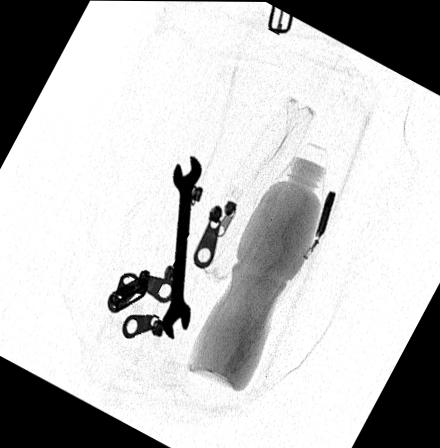Wrench: (157, 152, 205, 342)
